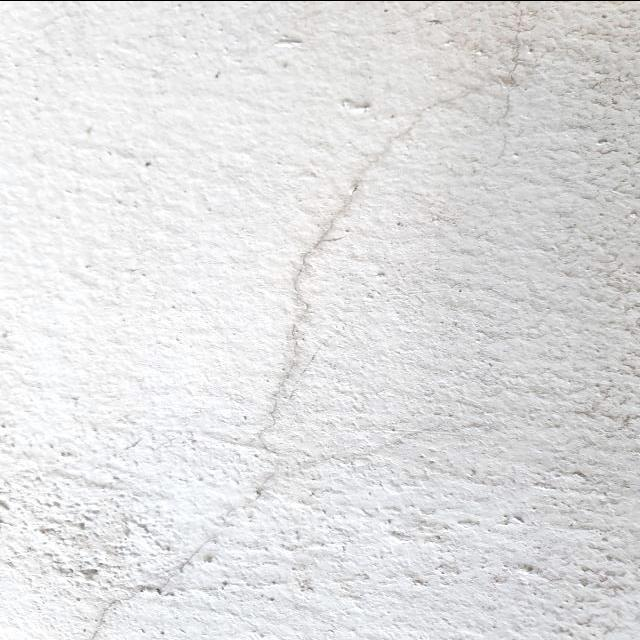SurfaceCrack: (192, 0, 625, 639)
